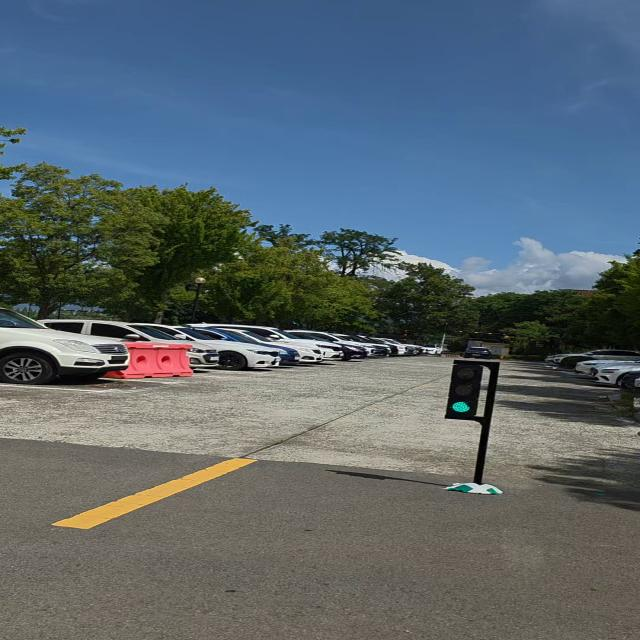green: (444, 358, 489, 419)
